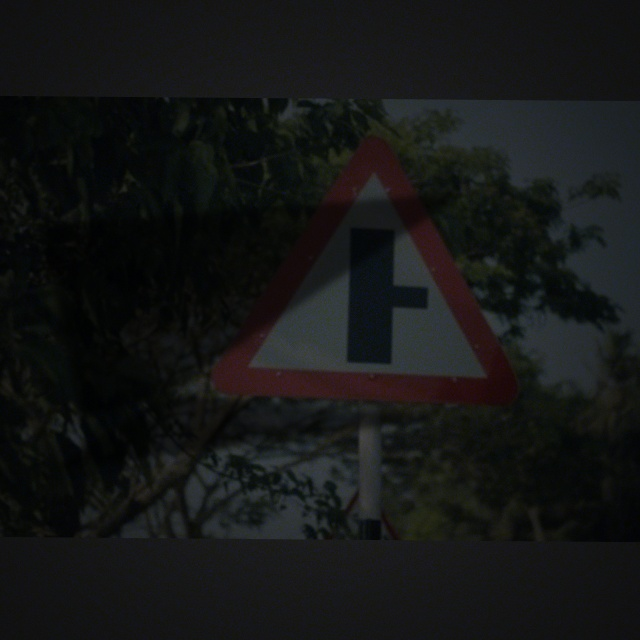Side_Road_Right: (228, 139, 517, 407)
